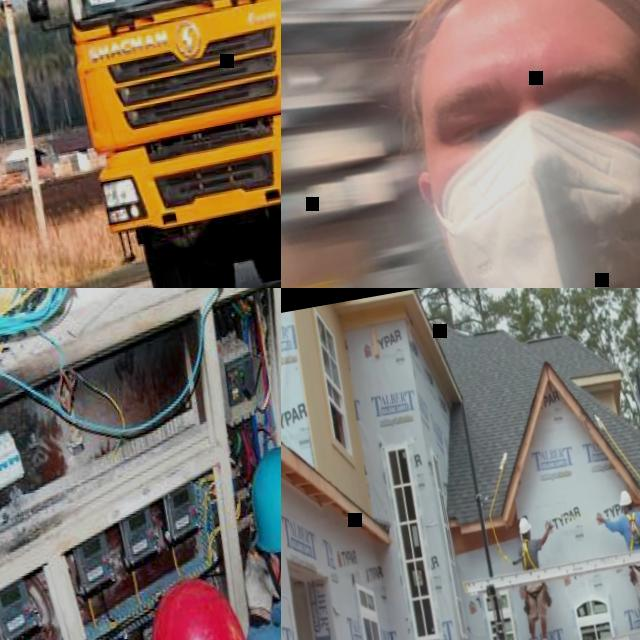helmet: (135, 570, 264, 640), (236, 439, 281, 558), (516, 516, 532, 535), (617, 488, 633, 506)
machinery: (0, 0, 281, 288)
mask: (421, 94, 640, 288)
no_helmet: (389, 0, 640, 78)
no_mask: (622, 508, 628, 514), (526, 533, 530, 540)
no_vest: (618, 510, 640, 551), (516, 538, 538, 568)
person: (281, 0, 640, 288), (508, 512, 574, 640), (590, 486, 640, 633)
